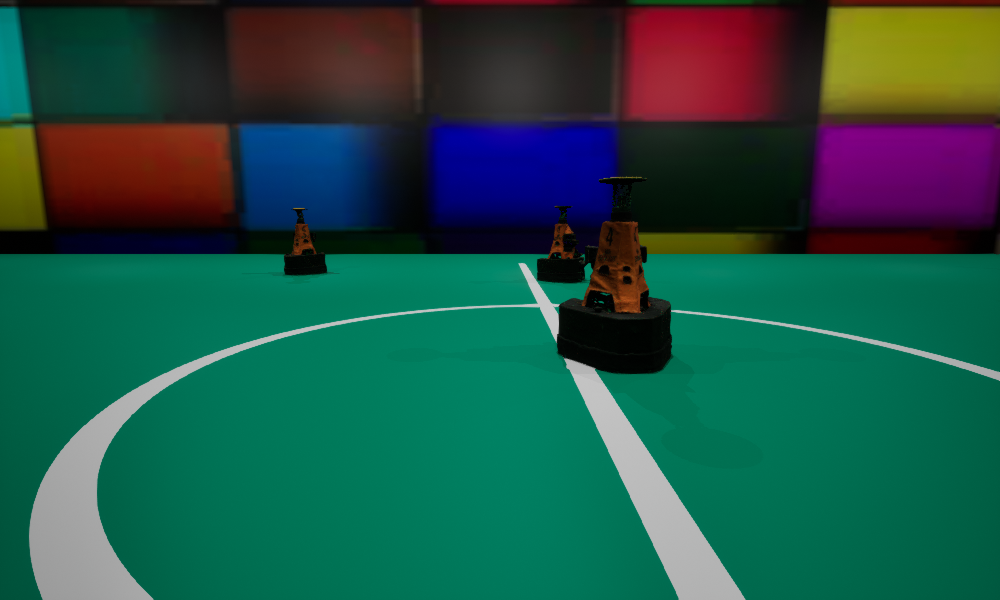0 orange robot TechUnited: (557, 177, 671, 373), (537, 206, 587, 282), (284, 208, 326, 274)
